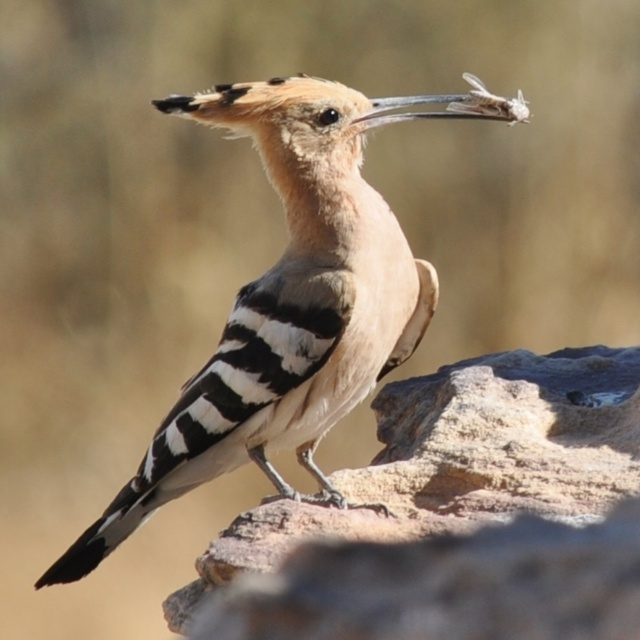Woodpecker: (32, 72, 532, 591)
